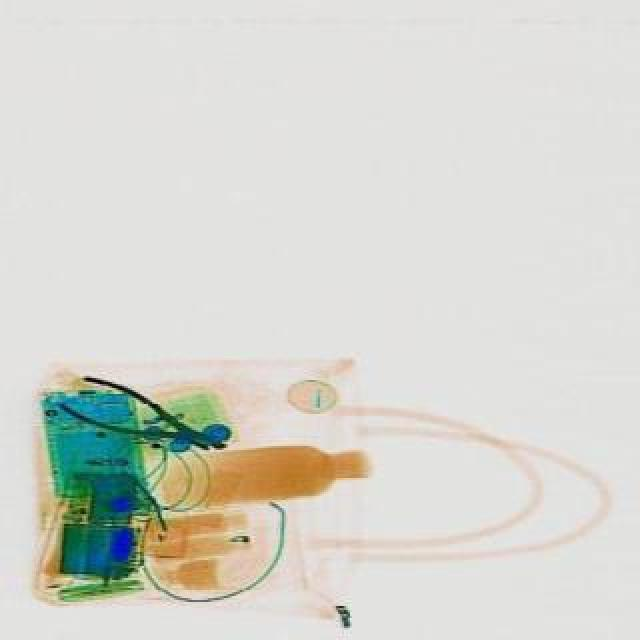wrench: (58, 366, 238, 470)
